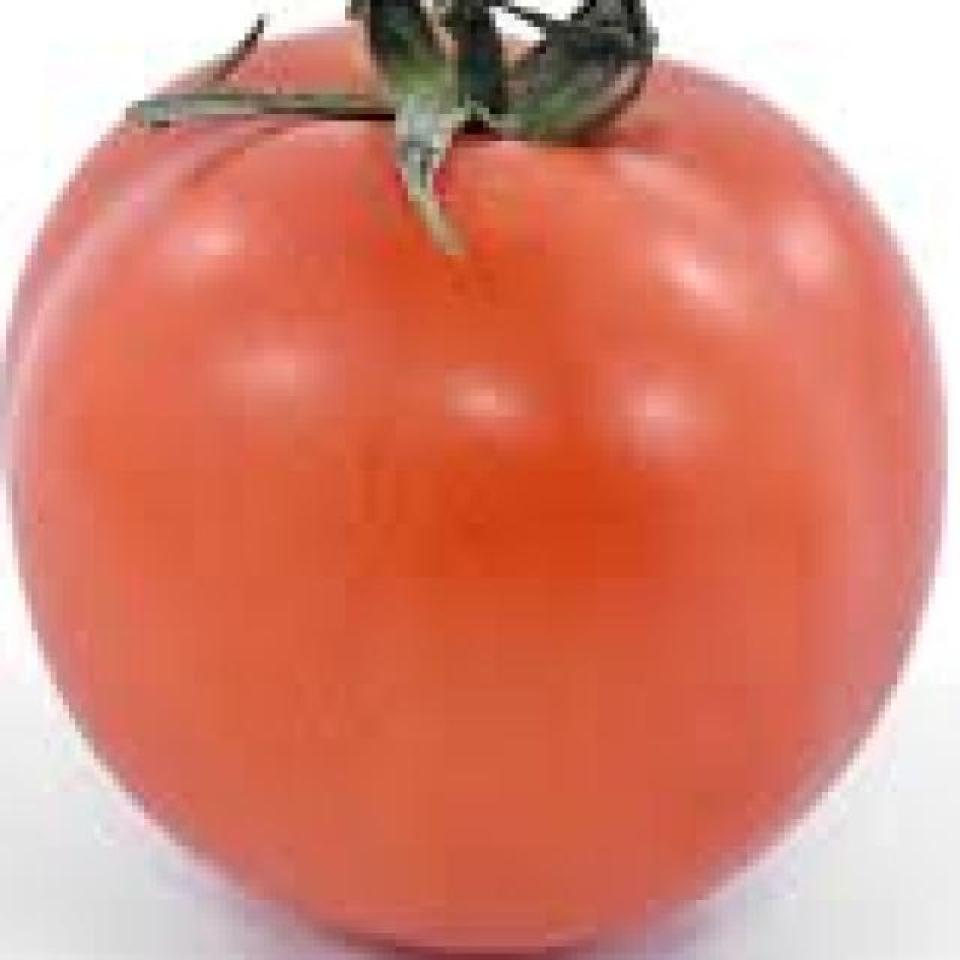Healthy: (21, 3, 960, 960)
